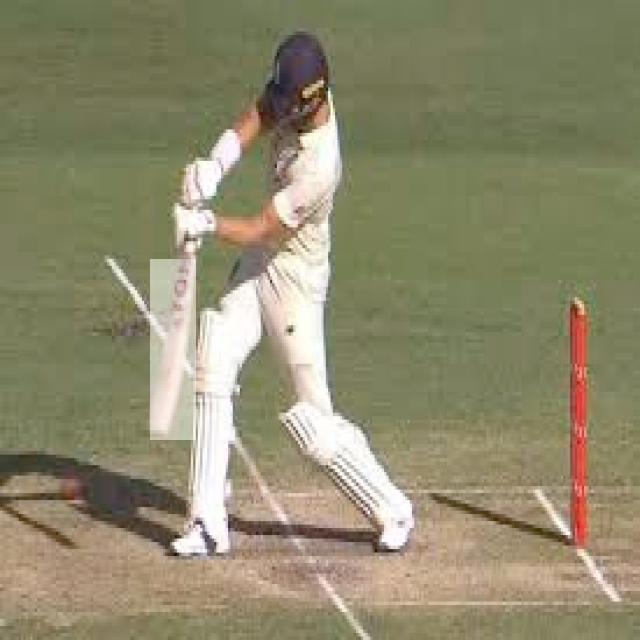bat: (149, 258, 193, 438)
toe: (146, 421, 171, 444)
